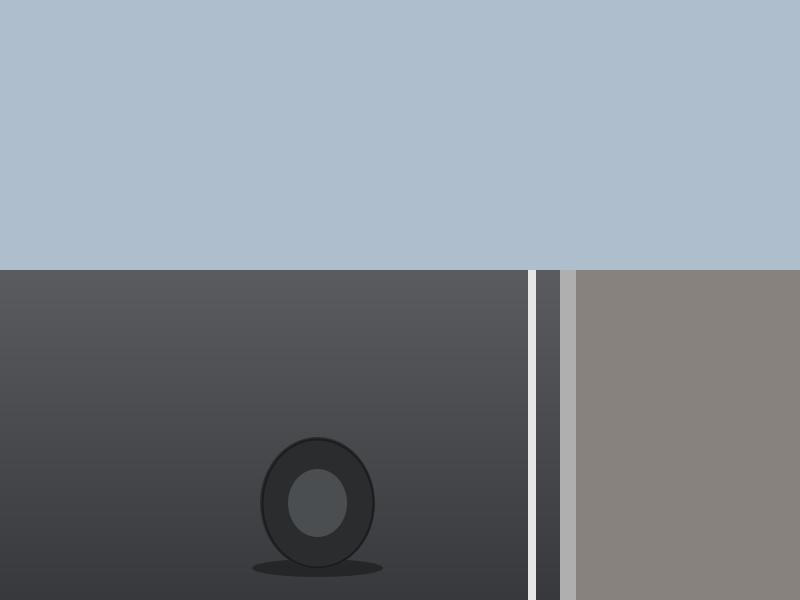ROAD_OBSTACLE: (260, 437, 375, 569)
